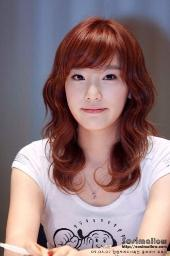face: (64, 67, 128, 127)
